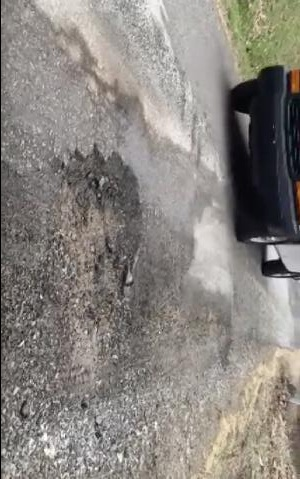pothole: (49, 140, 144, 310)
